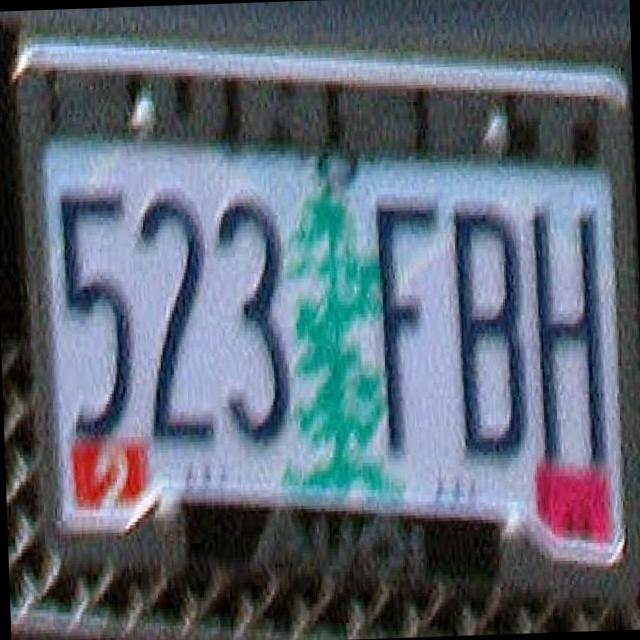2: (127, 180, 219, 453)
3: (208, 188, 298, 454)
5: (49, 172, 138, 443)
B: (440, 186, 534, 467)
F: (357, 182, 449, 462)
H: (522, 190, 612, 468)
